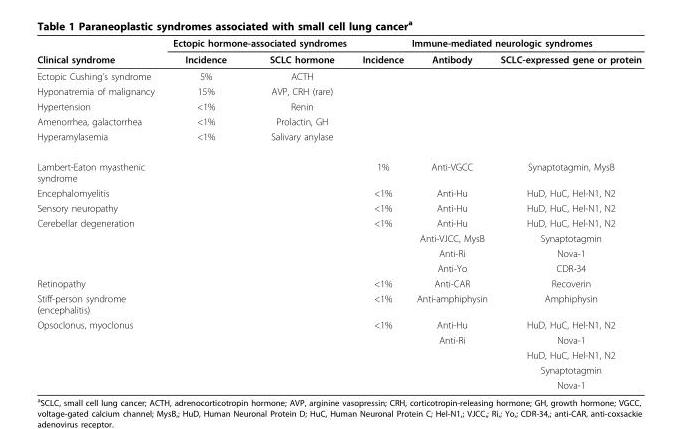table: (36, 36, 640, 390)
table column: (493, 36, 640, 390), (36, 36, 163, 390), (247, 36, 353, 390), (163, 36, 247, 390), (409, 36, 493, 390), (353, 36, 409, 390)
table column header: (36, 36, 640, 67)
table row: (36, 151, 640, 185), (36, 290, 640, 316), (36, 128, 640, 151), (36, 50, 640, 67), (36, 67, 640, 83), (36, 316, 640, 332), (36, 83, 640, 98), (36, 98, 640, 113), (36, 113, 640, 128), (36, 185, 640, 200), (36, 200, 640, 215), (36, 215, 640, 230), (36, 230, 640, 245), (36, 245, 640, 260), (36, 260, 640, 275), (36, 275, 640, 290), (36, 332, 640, 347), (36, 347, 640, 362), (36, 362, 640, 377), (36, 36, 640, 50), (36, 377, 640, 390)
table spanning cell: (36, 316, 163, 390), (36, 215, 163, 275), (353, 36, 640, 50), (36, 36, 163, 67), (163, 36, 353, 50)
